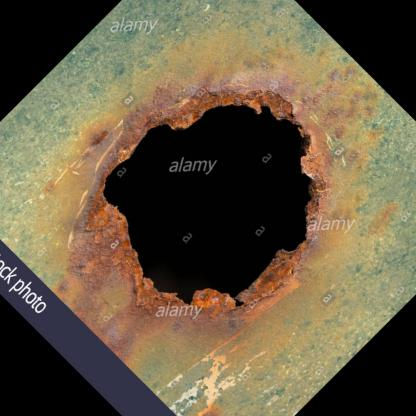burst: (98, 89, 342, 317)
